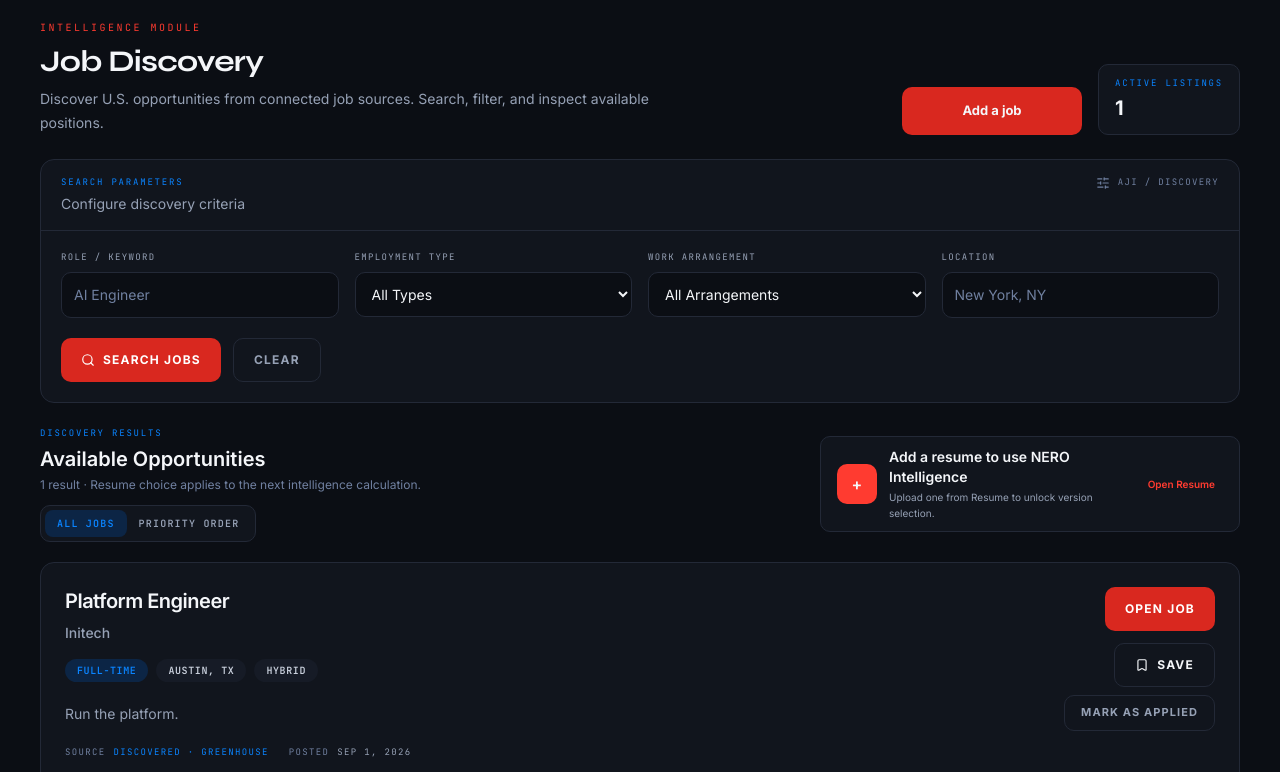
Test: Jobs page — search flow (AJI-023 Job Search) › shows the empty state for a search with no matches
Expected: the heading "Platform Engineer" is shown, [65,588,229,612]
Type "nothing matches this" into the field labelled "Role / Keyword". click: (200, 295)
box: [61,272,338,318]
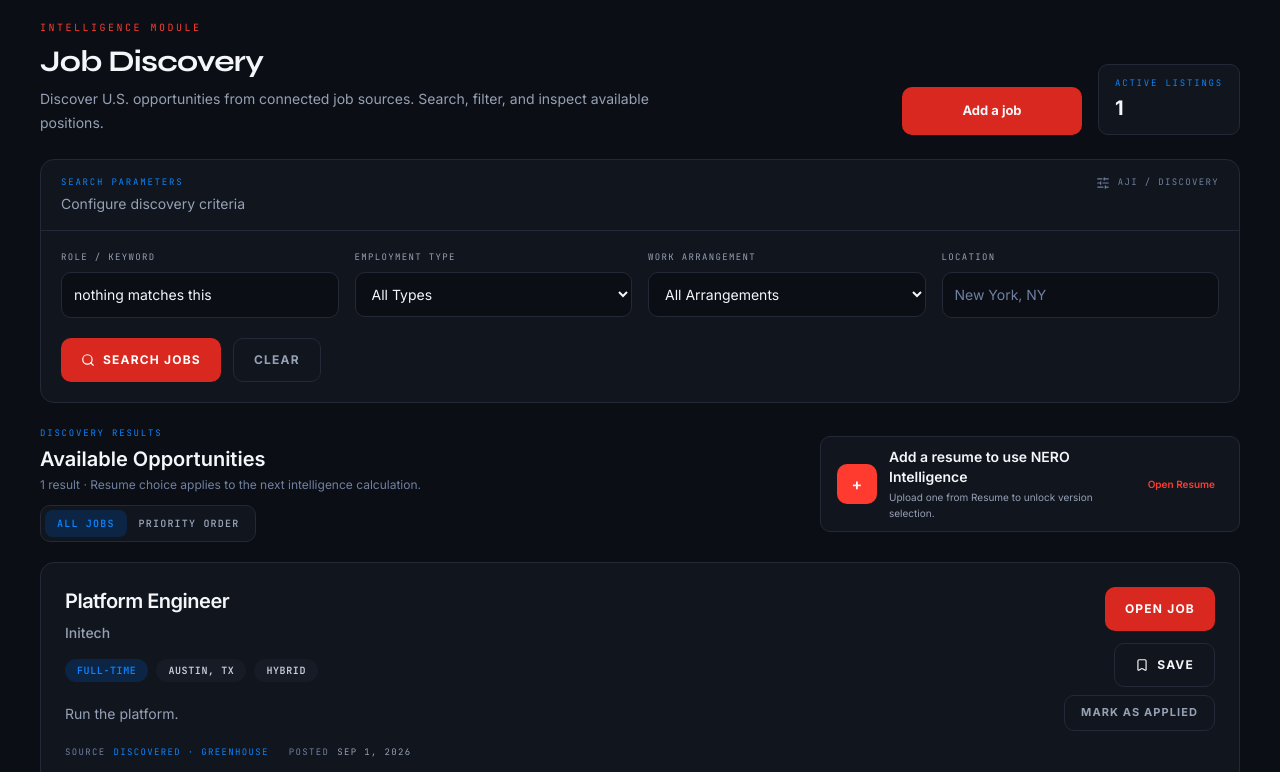
Click the button "Search Jobs". click: (141, 360)
box: [61,338,221,382]
(page scrolled)
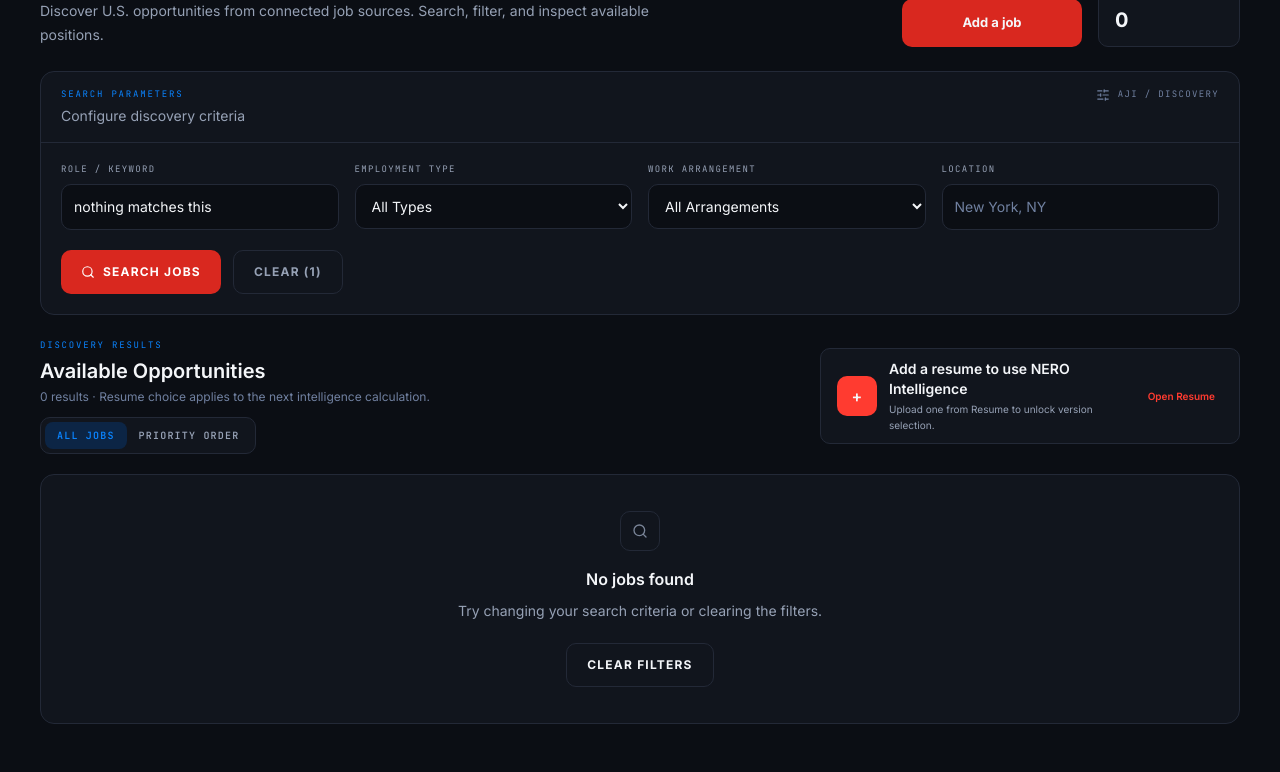
Expected: the heading "No jobs found" is shown, [586,568,694,588]
Expected: the button "Clear Filters" is shown, [566,642,714,686]
